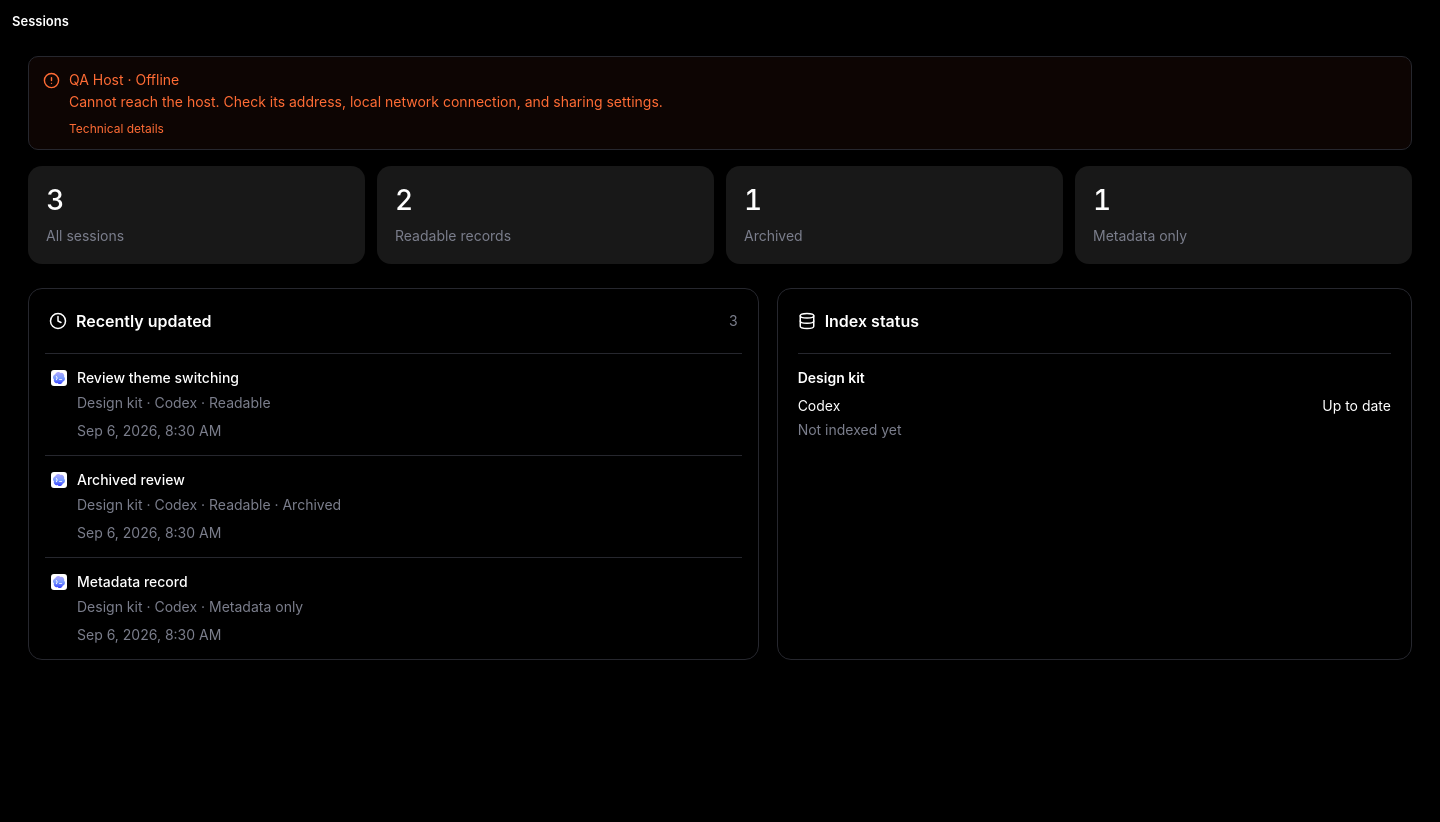
SessionHubPage › localizes remote catalog failures without exposing RPC text by default
Expected: the message shows "Cannot reach the host. Check its address, local network connection, and sharing settings.", [69,93,663,110]
Expected: the message does not show "RuntimeRequestError", [28,56,1412,150]
Click the button "Technical details".
click(116, 129)  # box [69,121,164,137]
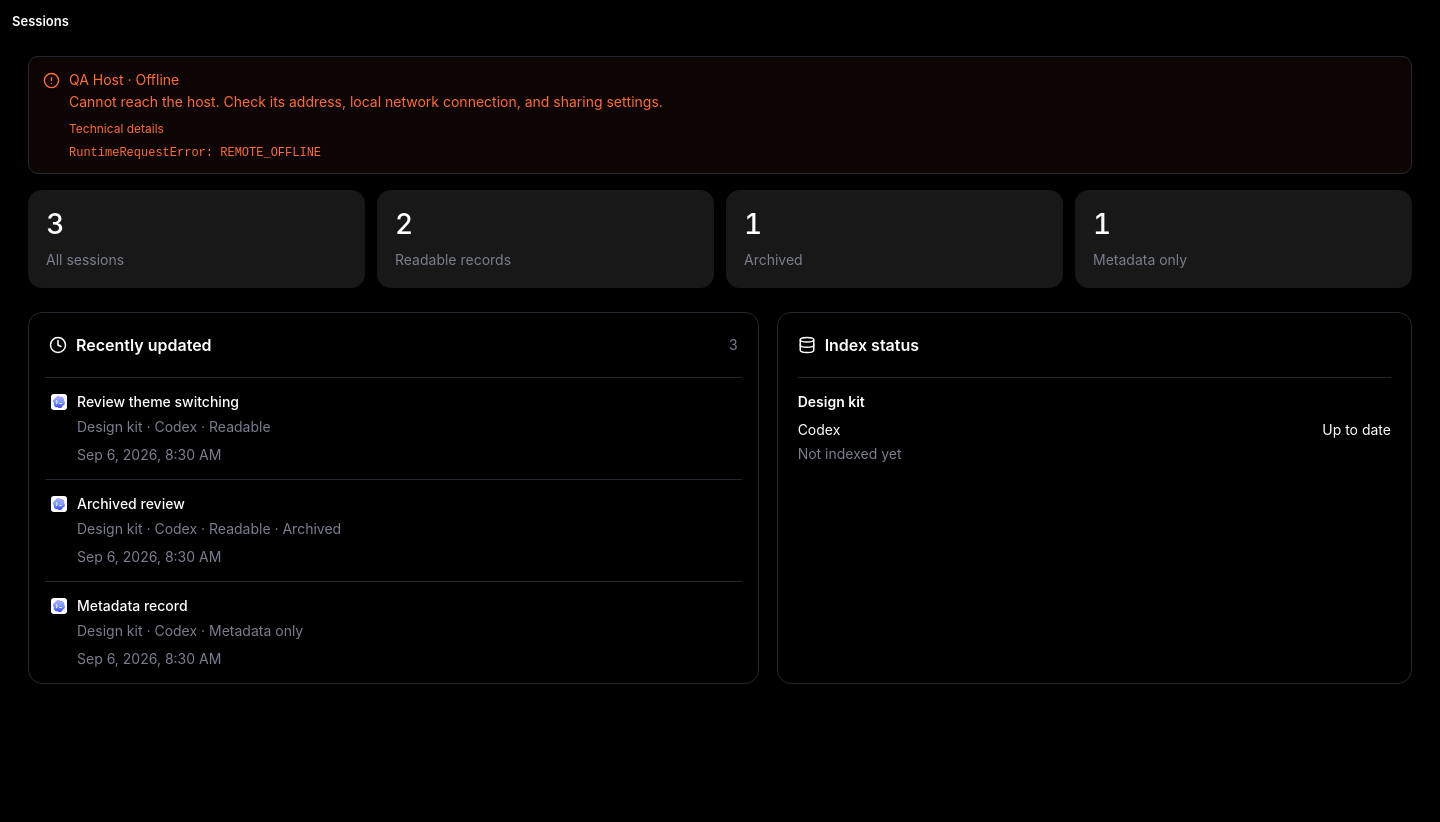
Expected: the message shows "RuntimeRequestError: REMOTE_OFFLINE", [69,146,321,160]
